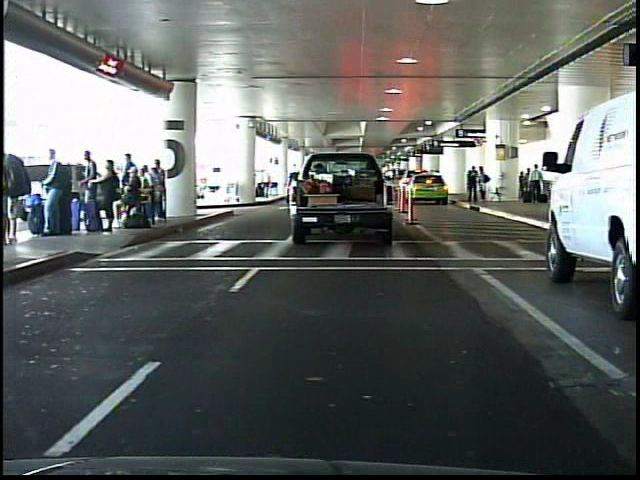person: (476, 166, 491, 203), (466, 164, 478, 204)
